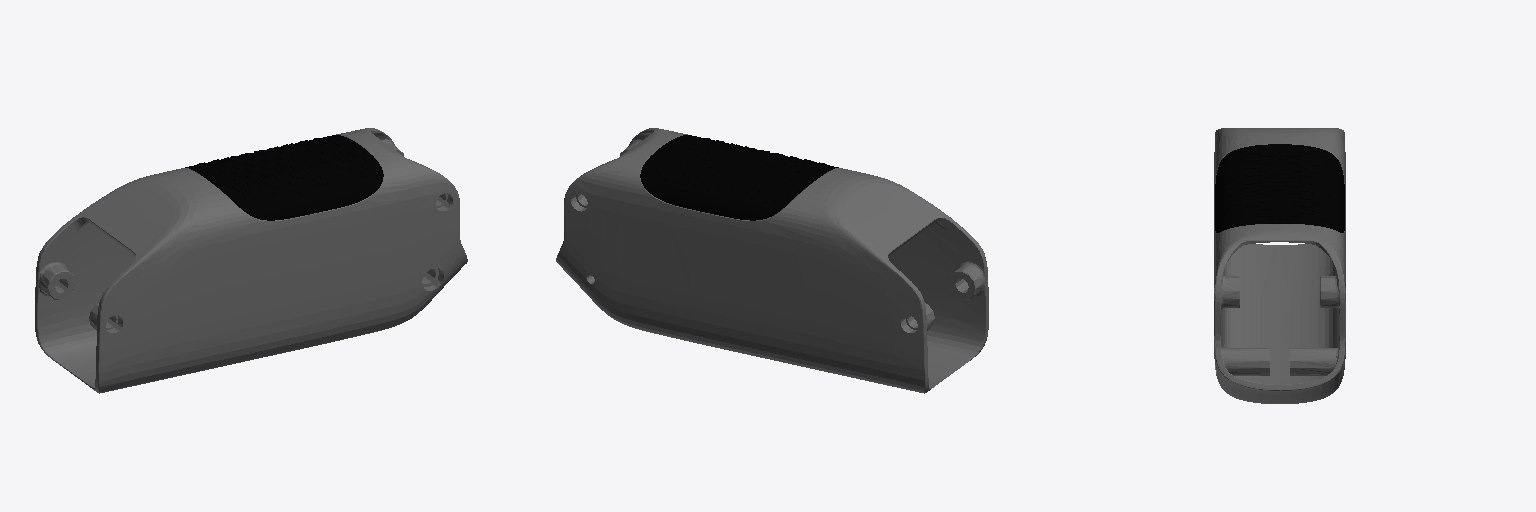
File: R_thumb_proximal_pitch_link.obj
The picture shows the model from 3 angles: view 1: azimuth 30°, elevation 25°; view 2: azimuth 150°, elevation 25°; view 3: azimuth 270°, elevation 25°; orthographic projection.
Parts seen in each view (by area): view 1: R_thumb_proximal_pitch_link; view 2: R_thumb_proximal_pitch_link; view 3: R_thumb_proximal_pitch_link.
Part boxes in pixels (x1,y1,x2,y2): R_thumb_proximal_pitch_link: (35,128,467,393); R_thumb_proximal_pitch_link: (556,128,988,393); R_thumb_proximal_pitch_link: (1214,128,1345,403).
Size of the model in its own units: 0.0708 by 0.0317 by 0.0214.